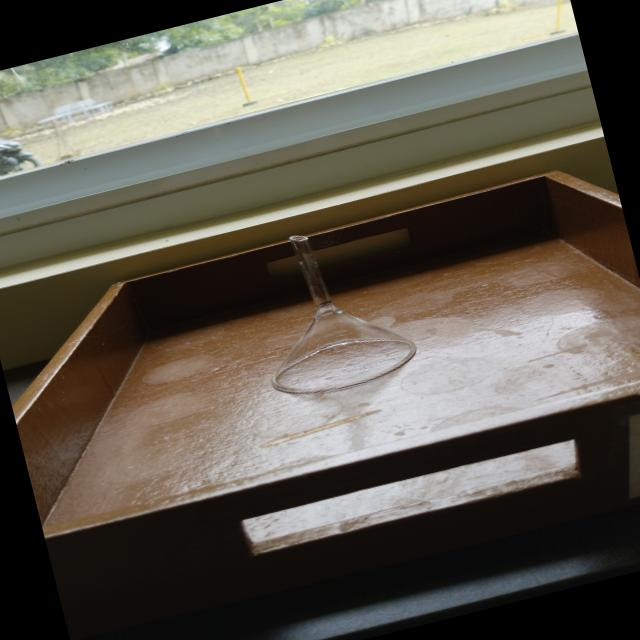funnel: (212, 208, 438, 412)
